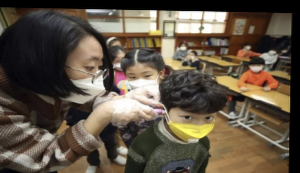with_mask: (64, 53, 106, 106), (164, 105, 216, 144), (124, 66, 160, 92), (111, 54, 125, 72), (248, 61, 265, 75), (268, 48, 277, 57), (179, 44, 187, 52), (245, 45, 252, 51)
